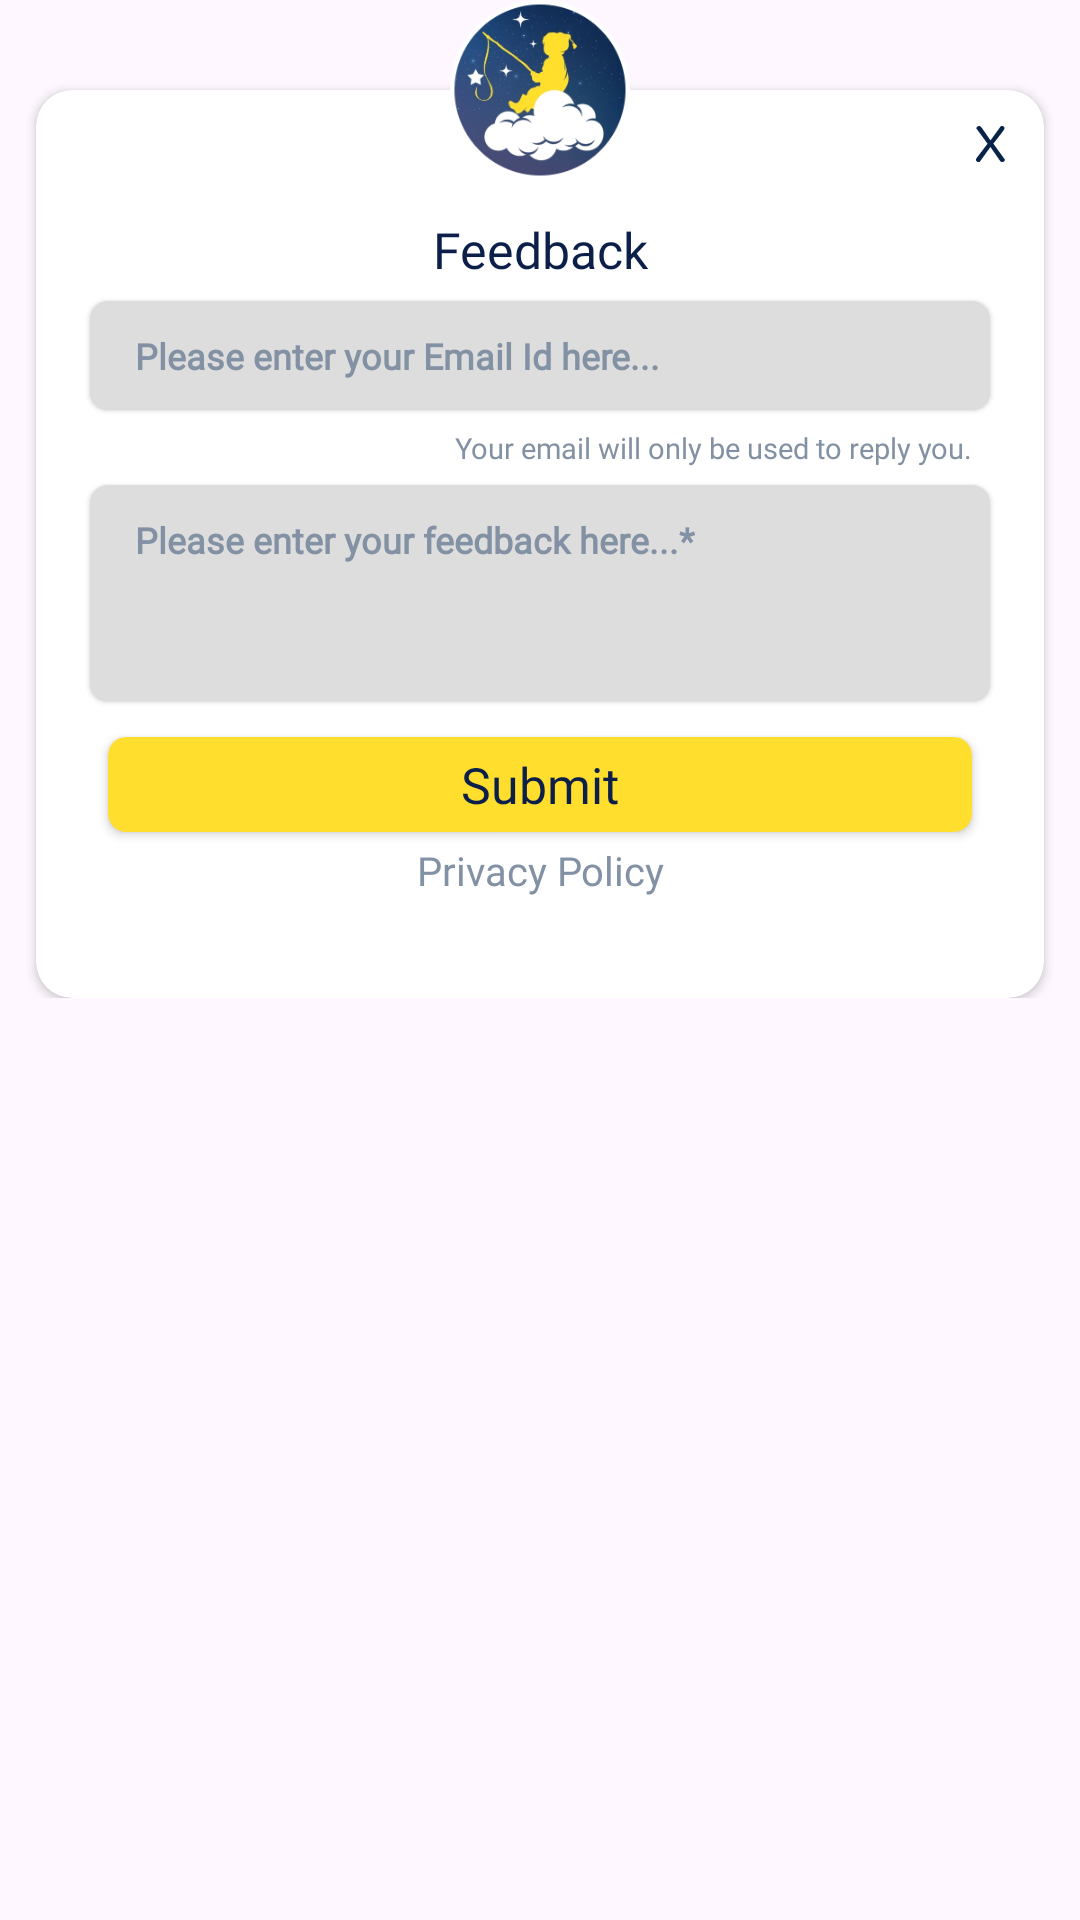

Icon bounding boxes for this 1080px×1920px phone screenshot, format (x1, y1, x2, y2):
cross: (976, 126, 1005, 162)
